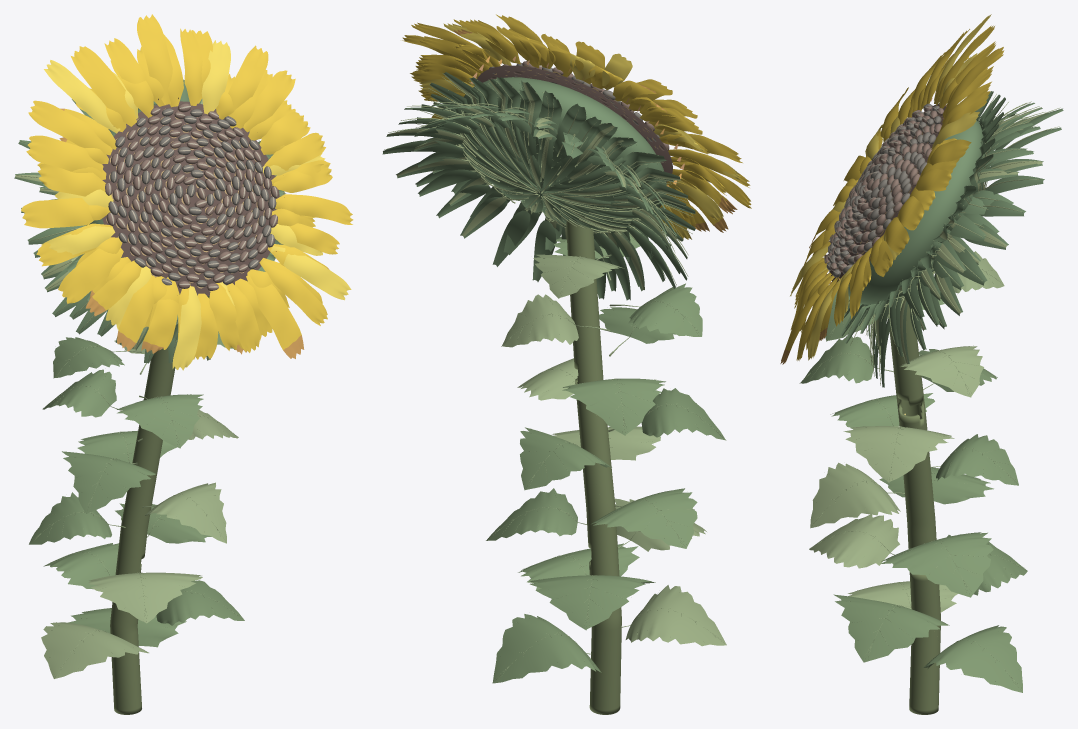
Rendered from sunflower_shootable.glb.
The picture shows the model from 3 angles, left to right: view 1: azimuth 30°, elevation 25°; view 2: azimuth 150°, elevation 25°; view 3: azimuth 270°, elevation 25°; orthographic projection. The views are drawn at different scales.
Parts seen in each view (by area): view 1: SunflowerRayFlorets_nocol, SunflowerLeaves_nocol, SunflowerHeadInteractive_nocol, SunflowerStalkRibs, SunflowerInvolucre_nocol, SunflowerKernelSockets_nocol, SunflowerLeafStemsAndVeins_nocol; view 2: SunflowerLeaves_nocol, SunflowerInvolucre_nocol, SunflowerRayFlorets_nocol, SunflowerStalkRibs, SunflowerInvolucreRibs_nocol, SunflowerHeadInteractive_nocol, SunflowerLeafStemsAndVeins_nocol; view 3: SunflowerLeaves_nocol, SunflowerRayFlorets_nocol, SunflowerInvolucre_nocol, SunflowerStalkRibs, SunflowerHeadInteractive_nocol, SunflowerInvolucreRibs_nocol, SunflowerLeafStemsAndVeins_nocol.
Boxes of the visible parts, x1=… form: SunflowerRayFlorets_nocol: x1=21, y1=14, x2=353, y2=370; SunflowerLeaves_nocol: x1=29, y1=324, x2=244, y2=678; SunflowerHeadInteractive_nocol: x1=86, y1=101, x2=279, y2=298; SunflowerStalkRibs: x1=110, y1=347, x2=175, y2=714; SunflowerInvolucre_nocol: x1=14, y1=79, x2=285, y2=363; SunflowerKernelSockets_nocol: x1=106, y1=108, x2=272, y2=291; SunflowerLeafStemsAndVeins_nocol: x1=29, y1=331, x2=242, y2=678; SunflowerLeaves_nocol: x1=486, y1=234, x2=726, y2=683; SunflowerInvolucre_nocol: x1=382, y1=72, x2=695, y2=300; SunflowerRayFlorets_nocol: x1=402, y1=14, x2=751, y2=239; SunflowerStalkRibs: x1=566, y1=220, x2=621, y2=714; SunflowerInvolucreRibs_nocol: x1=384, y1=77, x2=693, y2=285; SunflowerHeadInteractive_nocol: x1=464, y1=65, x2=672, y2=224; SunflowerLeafStemsAndVeins_nocol: x1=487, y1=241, x2=726, y2=679; SunflowerLeaves_nocol: x1=799, y1=251, x2=1027, y2=692; SunflowerRayFlorets_nocol: x1=780, y1=14, x2=1004, y2=364; SunflowerInvolucre_nocol: x1=840, y1=91, x2=1063, y2=387; SunflowerStalkRibs: x1=889, y1=298, x2=940, y2=714; SunflowerHeadInteractive_nocol: x1=829, y1=103, x2=983, y2=304; SunflowerInvolucreRibs_nocol: x1=845, y1=94, x2=1060, y2=385; SunflowerLeafStemsAndVeins_nocol: x1=801, y1=258, x2=1025, y2=692.
Bounding box in the file's own units: 10 × 20.15 × 7.52.
